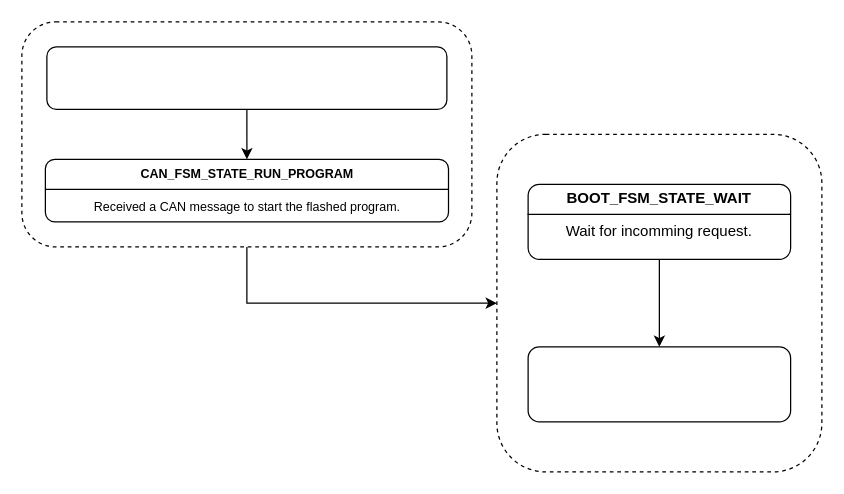
This 844x494 diagram has some shape labels left out. Here are the shapes that lost their labels. From the top down, the centre of each, then its label:
At point 246,77: "CAN_FSM_STATE_NO_COMMUNICATION No relevant CAN communication has ever occurred.".
At point 659,384: "BOOT_FSM_STATE_RUN Start the flashed program.".
